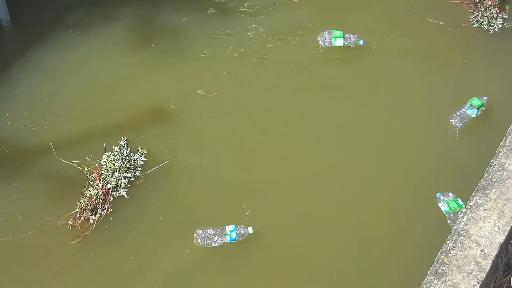plastic: (443, 90, 491, 140), (428, 186, 465, 229), (201, 226, 267, 244), (325, 29, 366, 48)
twig: (59, 127, 174, 224), (441, 0, 512, 32)
